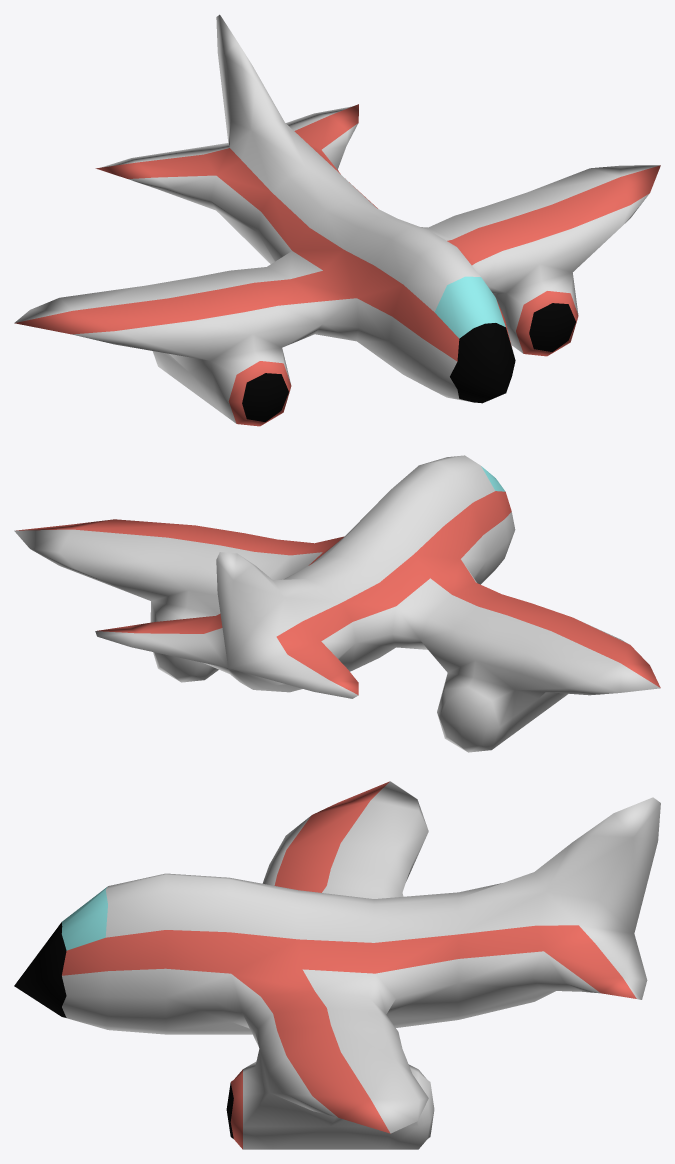
The picture shows the model from 3 angles, top to bottom: view 1: azimuth 30°, elevation 25°; view 2: azimuth 150°, elevation 25°; view 3: azimuth 270°, elevation 25°; orthographic projection. The views are drawn at different scales.
Visible parts, largest first — view 1: low; view 2: low; view 3: low.
Boxes of the visible parts, x1,y1,x2,y2 form: low: [14, 14, 660, 426]; low: [14, 455, 660, 752]; low: [14, 781, 660, 1149].
Bounding box in the file's own units: 2063 × 1600 × 739.
